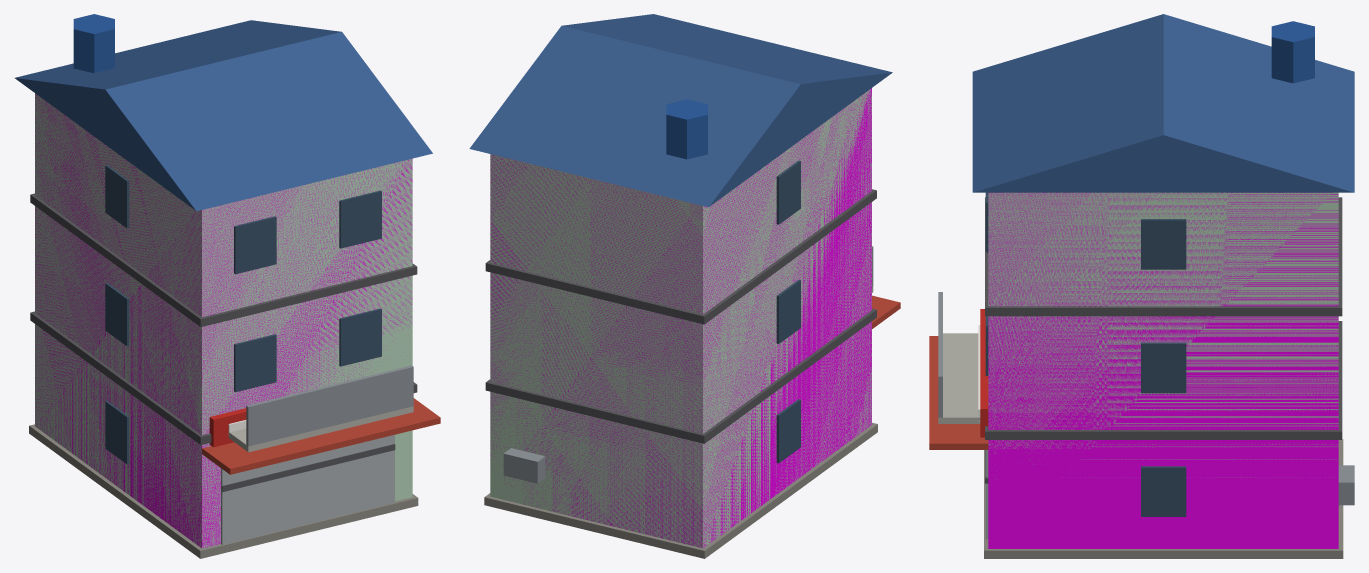
Rendered from MixedUse_3S_03.glb.
The picture shows the model from 3 angles, left to right: view 1: azimuth 30°, elevation 25°; view 2: azimuth 150°, elevation 25°; view 3: azimuth 270°, elevation 25°; orthographic projection. The views are drawn at different scales.
Parts seen in each view (by area): view 1: MixedUse_3S_03, MixedUse_3S_03_COL; view 2: MixedUse_3S_03, MixedUse_3S_03_COL; view 3: MixedUse_3S_03, MixedUse_3S_03_COL.
Part boxes in pixels (x1,y1,x2,y2): MixedUse_3S_03: [15, 14, 440, 558]; MixedUse_3S_03_COL: [35, 94, 412, 548]; MixedUse_3S_03: [469, 14, 900, 558]; MixedUse_3S_03_COL: [490, 88, 871, 547]; MixedUse_3S_03: [929, 14, 1354, 558]; MixedUse_3S_03_COL: [988, 192, 1338, 548].
Size of the model in its own units: 6.3 by 10.6 by 9.35.
